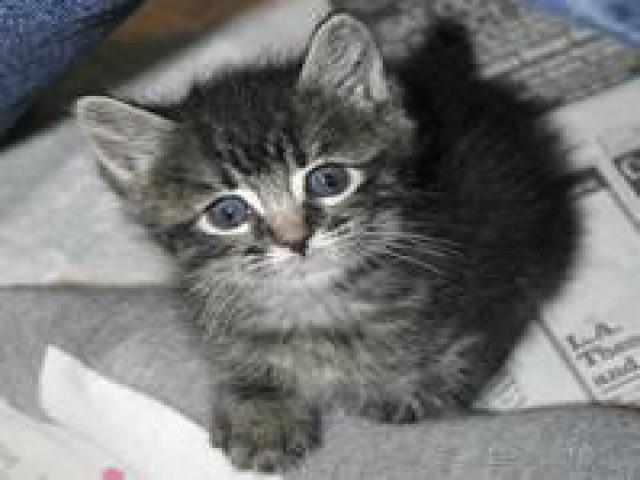cat: (65, 3, 583, 469)
